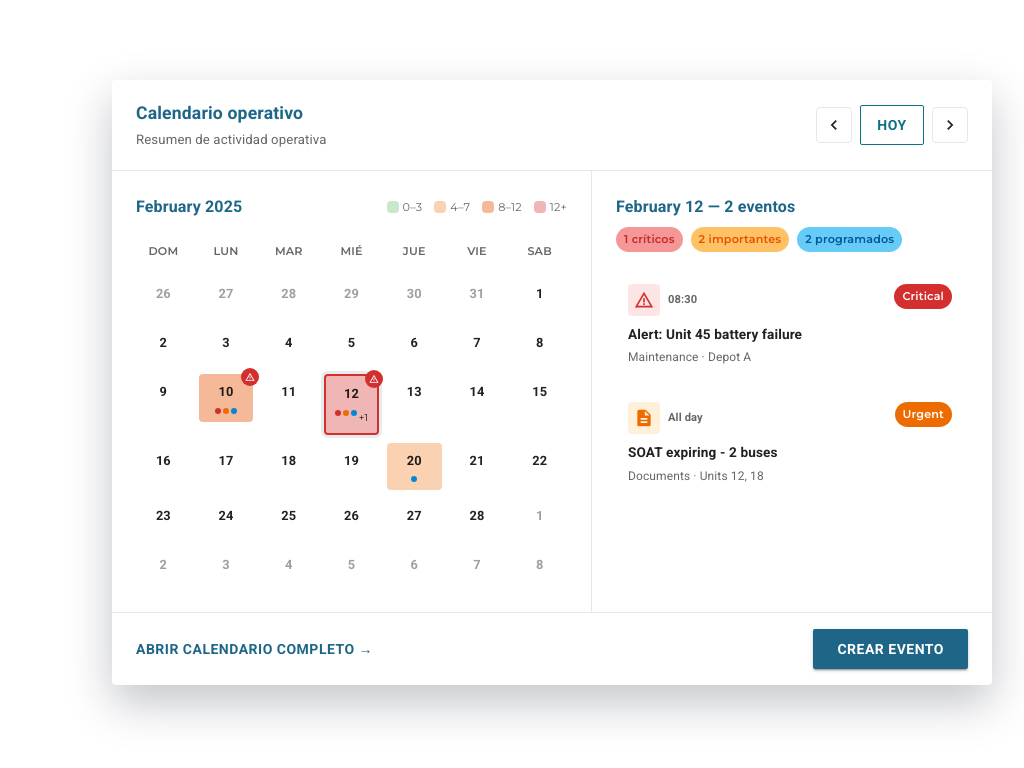
Scenario: CalendarFlyout component › navigates to previous and next months when clicking nav buttons
Check: the text "February 2025" is shown, box [136,195,242,219]
Click the 3rd button at (950, 125), box [932,107,968,143]
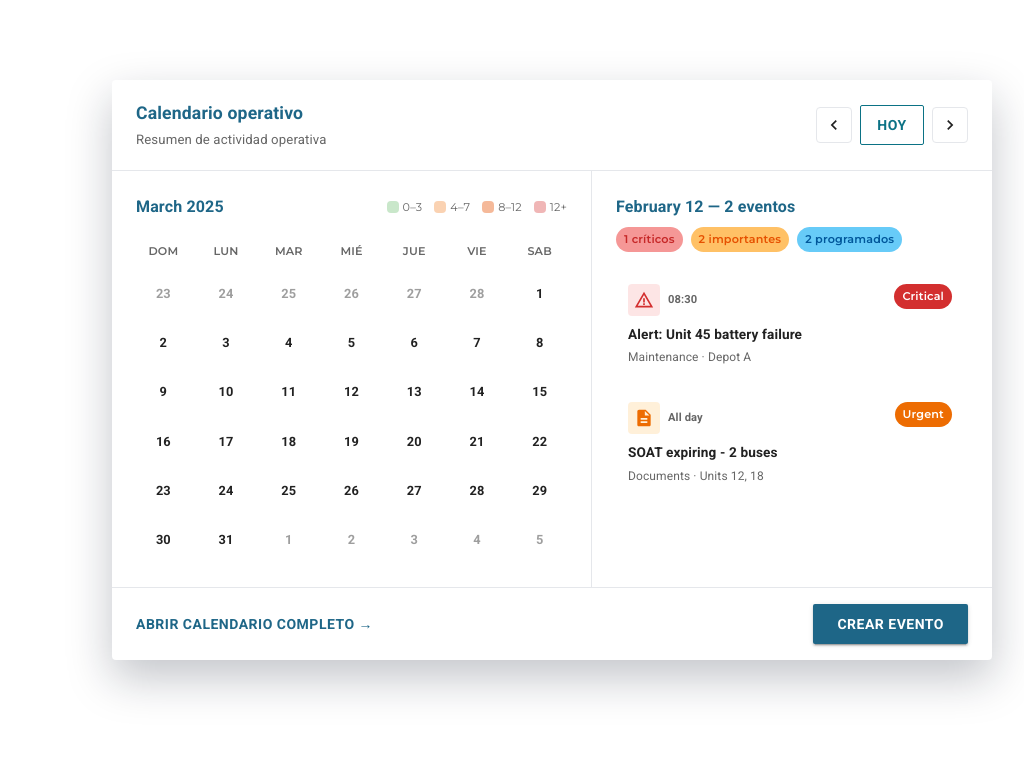
Check: the text "March 2025" is shown, box [136,195,224,219]
Click the 1st button at (834, 125), box [816,107,852,143]
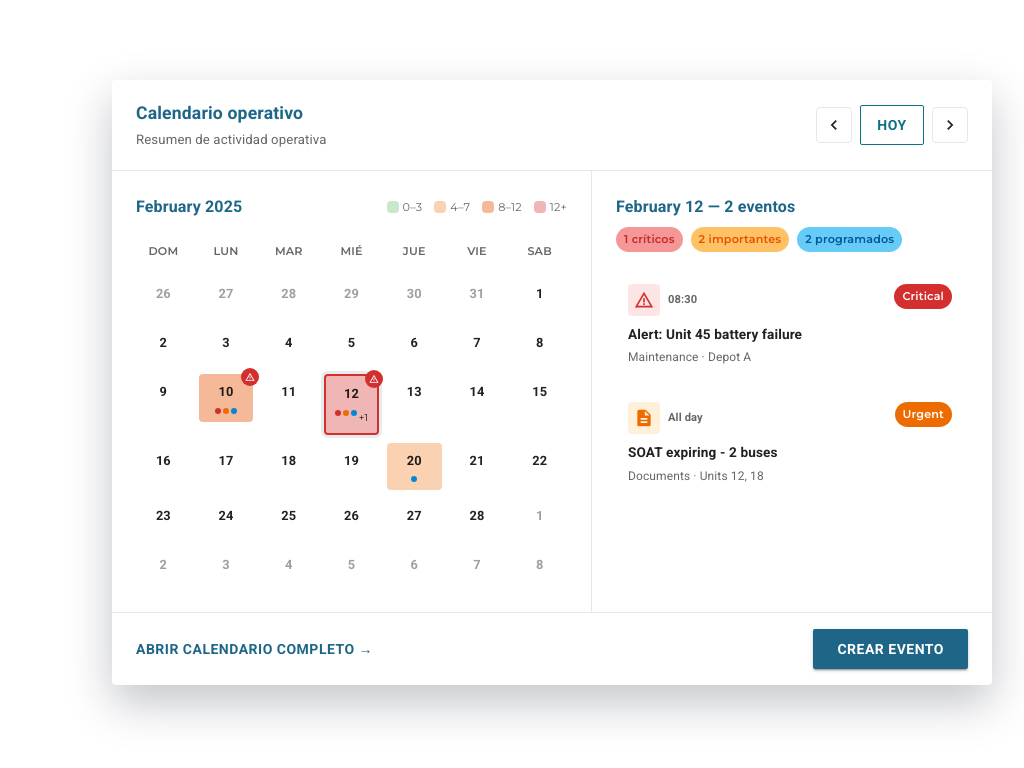
Check: the text "February 2025" is shown, box [136,195,242,219]
